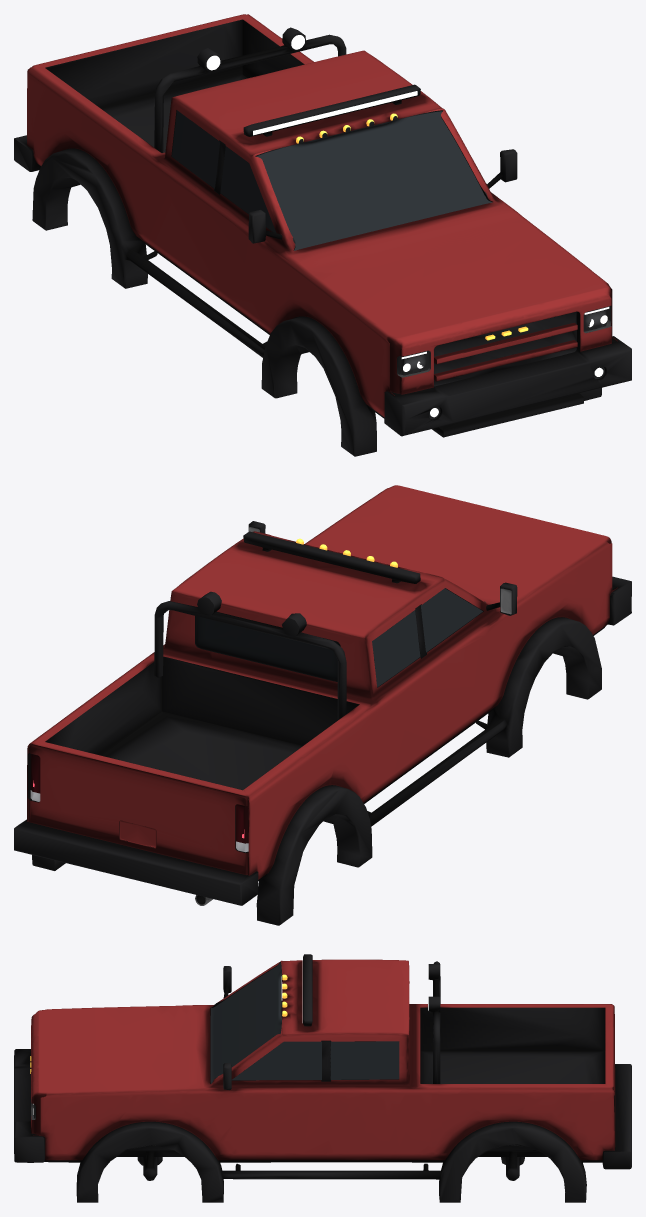
The model's file is juggernaut.m.glb.
The picture shows the model from 3 angles, top to bottom: view 1: azimuth 30°, elevation 25°; view 2: azimuth 150°, elevation 25°; view 3: azimuth 270°, elevation 25°; orthographic projection. The views are drawn at different scales.
Parts seen in each view (by area): view 1: paint_lodm, trim_lodm, window_lodm, grille_lodm, lens_lodm, head_lodm; view 2: paint_lodm, trim_lodm, glass_lodm, window_lodm, tail_lodm; view 3: paint_lodm, trim_lodm, window_lodm.
Part boxes in pixels (x1,y1,x2,y2): paint_lodm: (26, 14, 617, 417); trim_lodm: (14, 19, 631, 456); window_lodm: (172, 110, 492, 250); grille_lodm: (434, 312, 576, 386); lens_lodm: (206, 35, 603, 417); head_lodm: (397, 307, 606, 419); paint_lodm: (27, 485, 617, 879); trim_lodm: (14, 521, 631, 925); glass_lodm: (195, 616, 340, 681); window_lodm: (372, 588, 482, 687); tail_lodm: (30, 754, 248, 843); paint_lodm: (30, 959, 615, 1160); trim_lodm: (14, 954, 631, 1202); window_lodm: (210, 962, 399, 1083).
Size of what is drawn, in the model's own units: 2.26 by 1.82 by 5.76.
